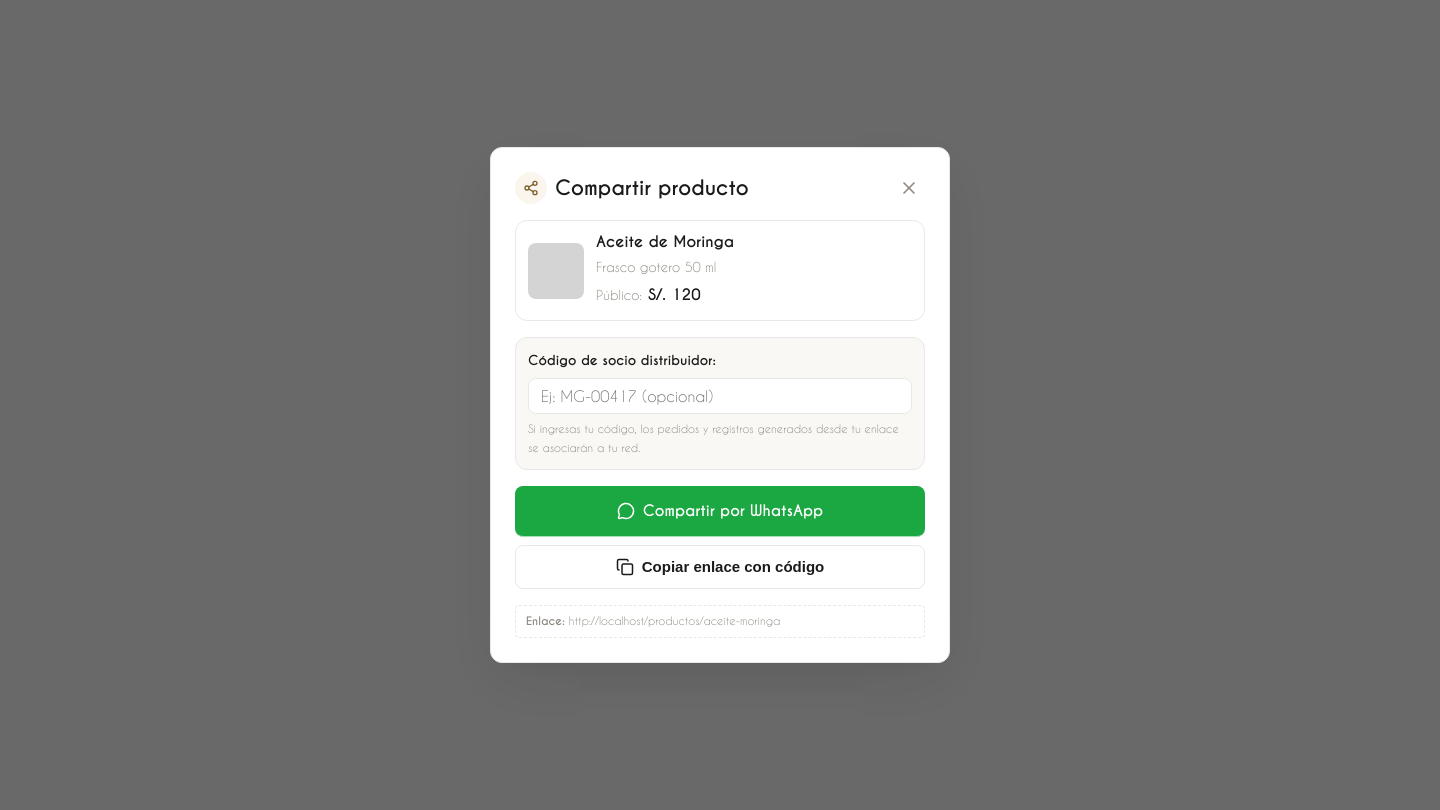
Test case: Funcionalidad de Compartir Productos › 7 · Copiar enlace invoca clipboard o muestra estado visual de copiado
This screenshot has width=1440, height=810.
Click the button with test id "btn-copy-link" at (720, 567), box [515,545,925,589]
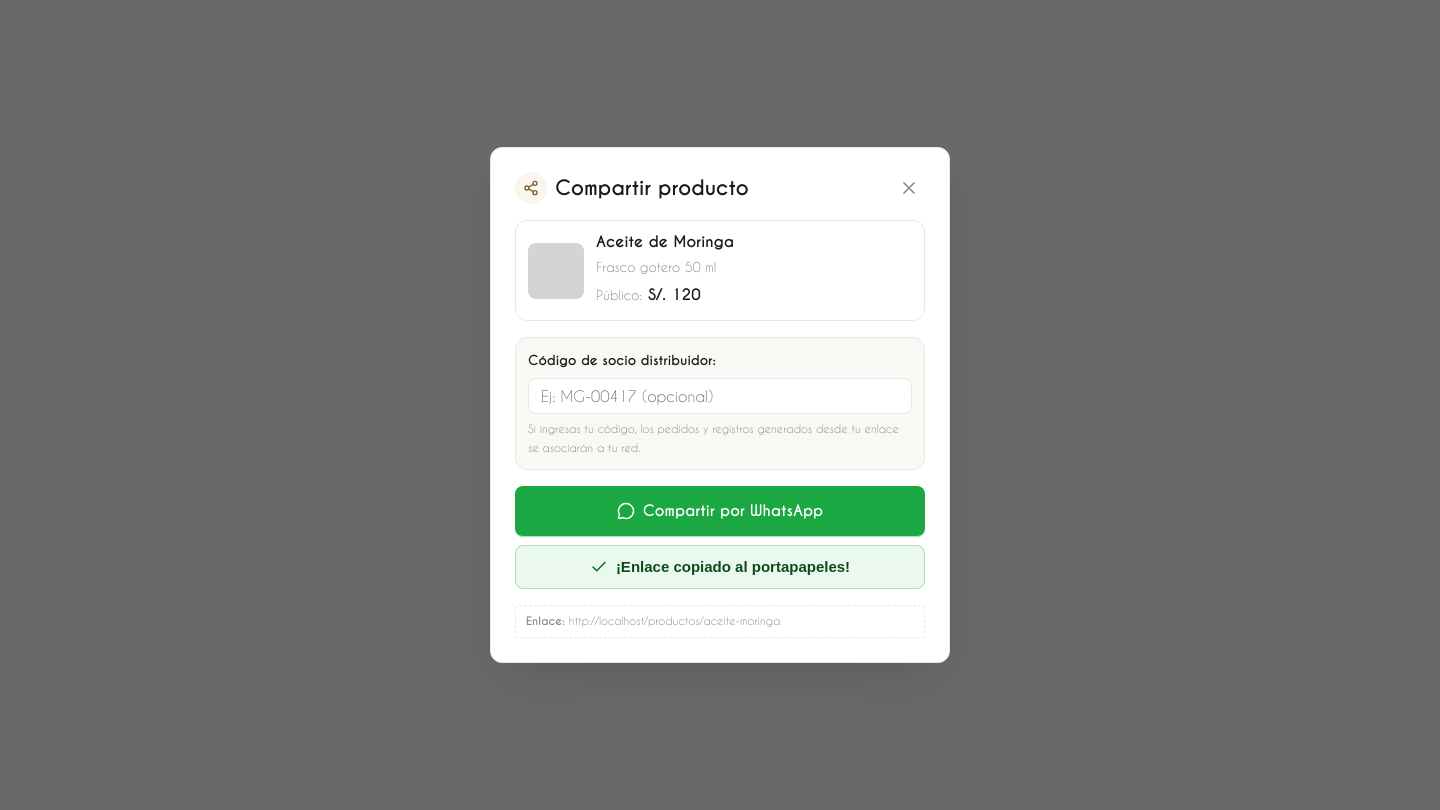
Now the text "¡Enlace copiado al portapapeles!" is shown, box [616,558,850,575]
